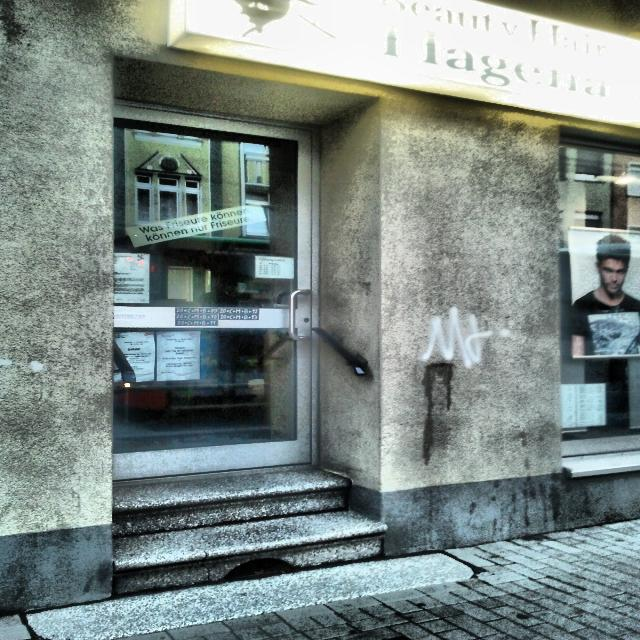escada: (109, 479, 382, 594)
